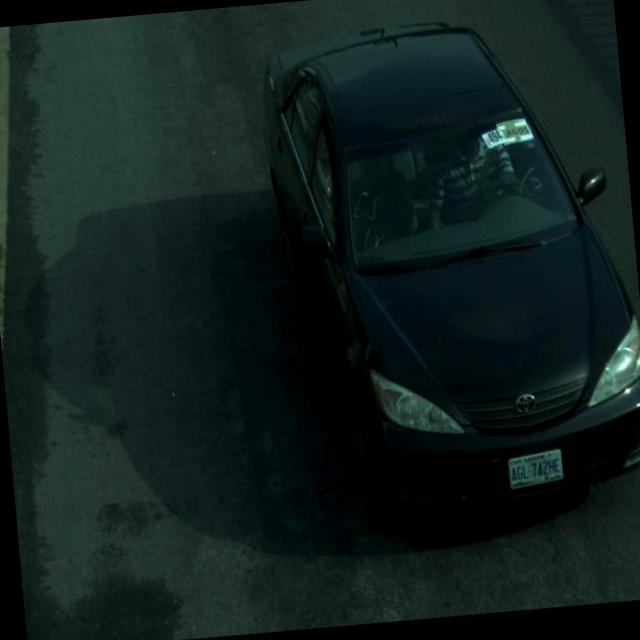person_with_seatbelt: (432, 121, 544, 246)
